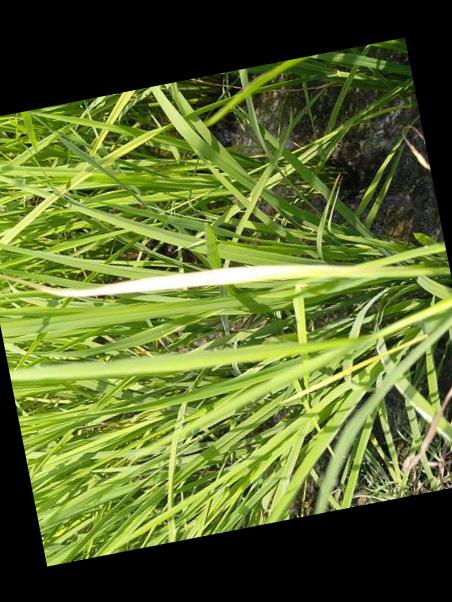Leaf Blight: (36, 263, 450, 295)
